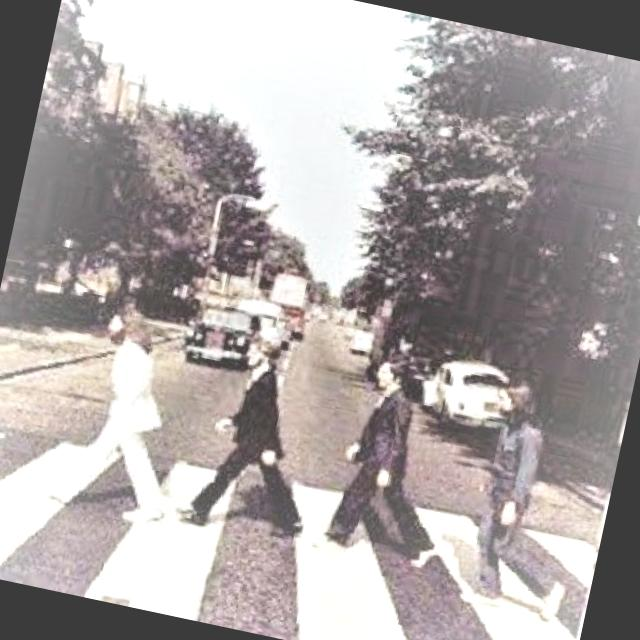Person: (446, 368, 610, 620), (169, 318, 346, 550), (306, 344, 477, 582), (40, 301, 201, 528)
